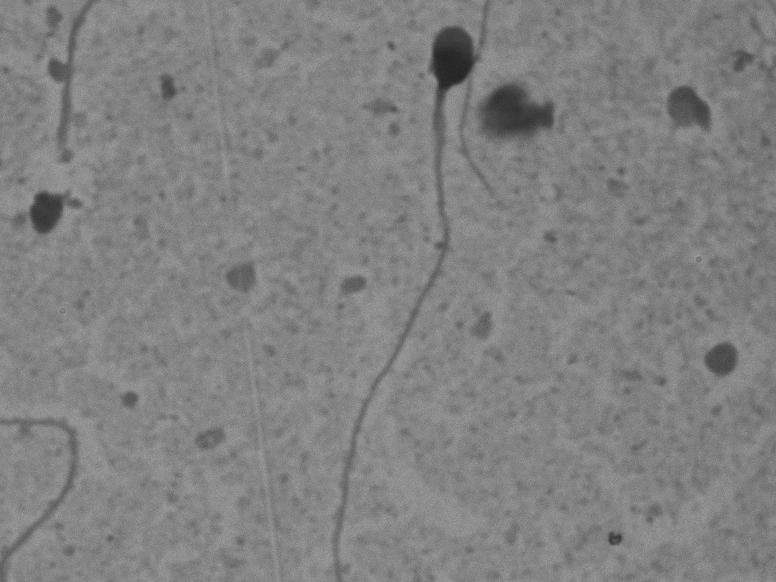Normal: (303, 21, 483, 567)
